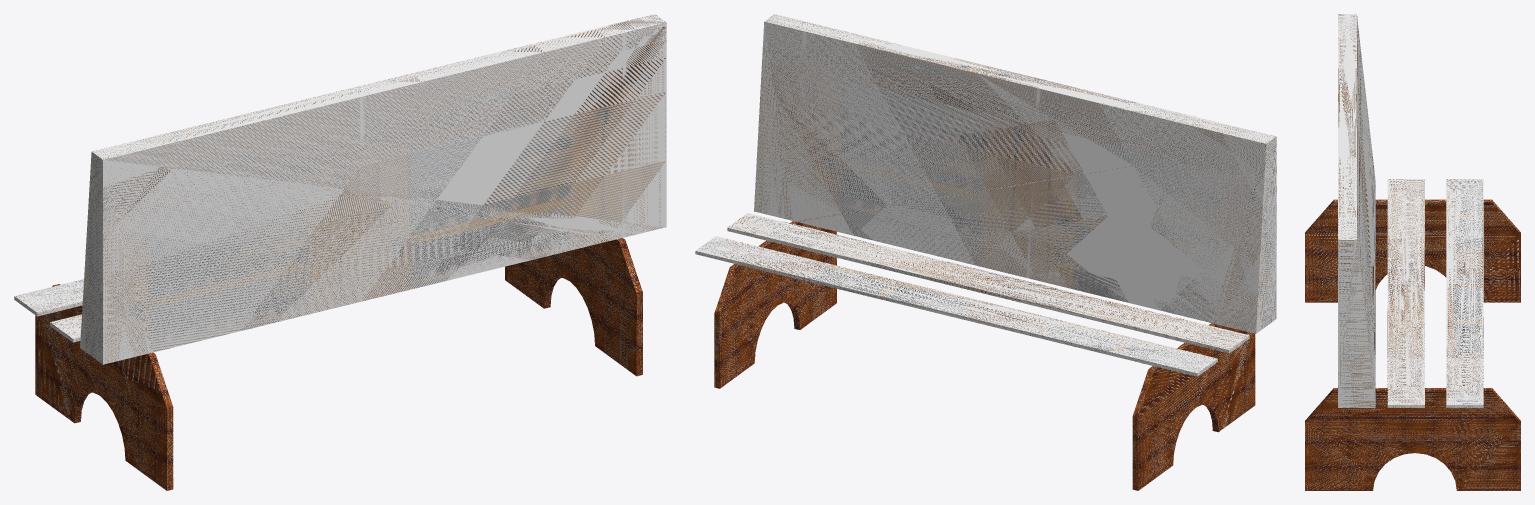
3 renders of one model, left to right at view 1: azimuth 30°, elevation 25°; view 2: azimuth 150°, elevation 25°; view 3: azimuth 270°, elevation 25°, orthographic. The views are drawn at different scales.
Parts seen in each view (by area): view 1: mesh1_mesh1-geometry; view 2: mesh1_mesh1-geometry; view 3: mesh1_mesh1-geometry.
Part boxes in pixels (x1,y1,x2,y2): mesh1_mesh1-geometry: (14,14,666,490); mesh1_mesh1-geometry: (695,14,1276,490); mesh1_mesh1-geometry: (1305,14,1520,490).
Size of the model in its own units: 0.8246 by 0.4573 by 0.3331.
